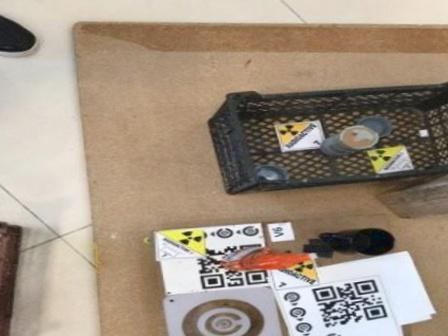radioactive: (152, 227, 209, 262), (272, 118, 329, 153), (263, 255, 320, 290), (365, 142, 417, 177)
